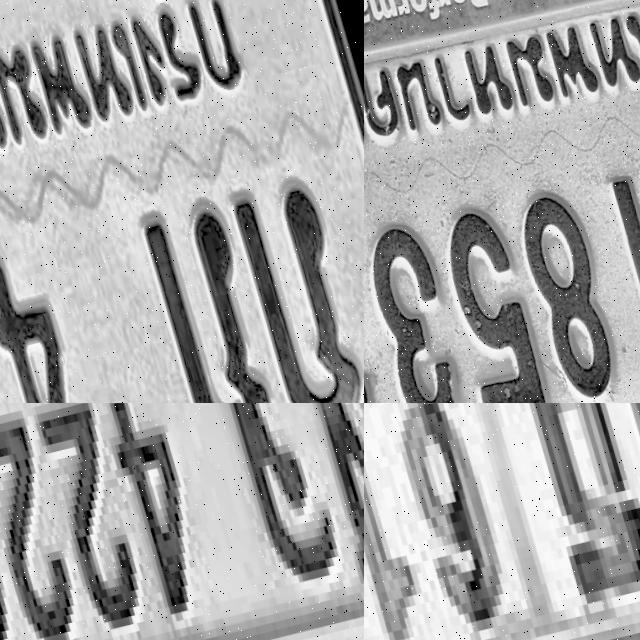license-plate: (0, 0, 364, 403), (364, 0, 640, 403), (0, 403, 364, 640), (364, 403, 640, 640)
